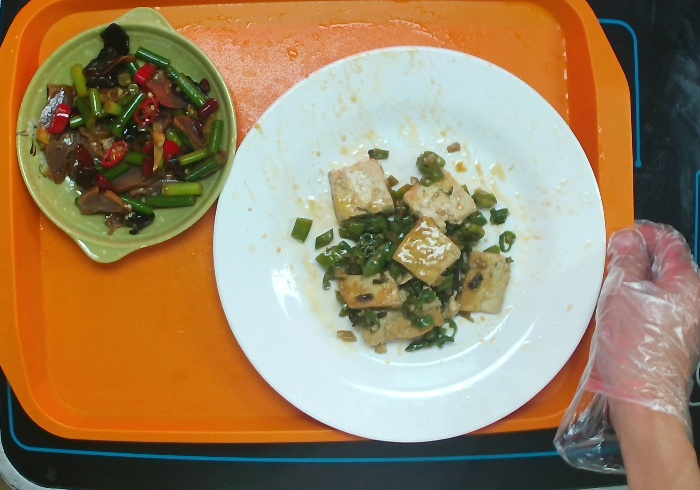NLDX-Da_Yuan_Pan: (213, 45, 606, 445)
NLDX-Lv_Hua_Shuang_Er_Die: (13, 8, 236, 267)
